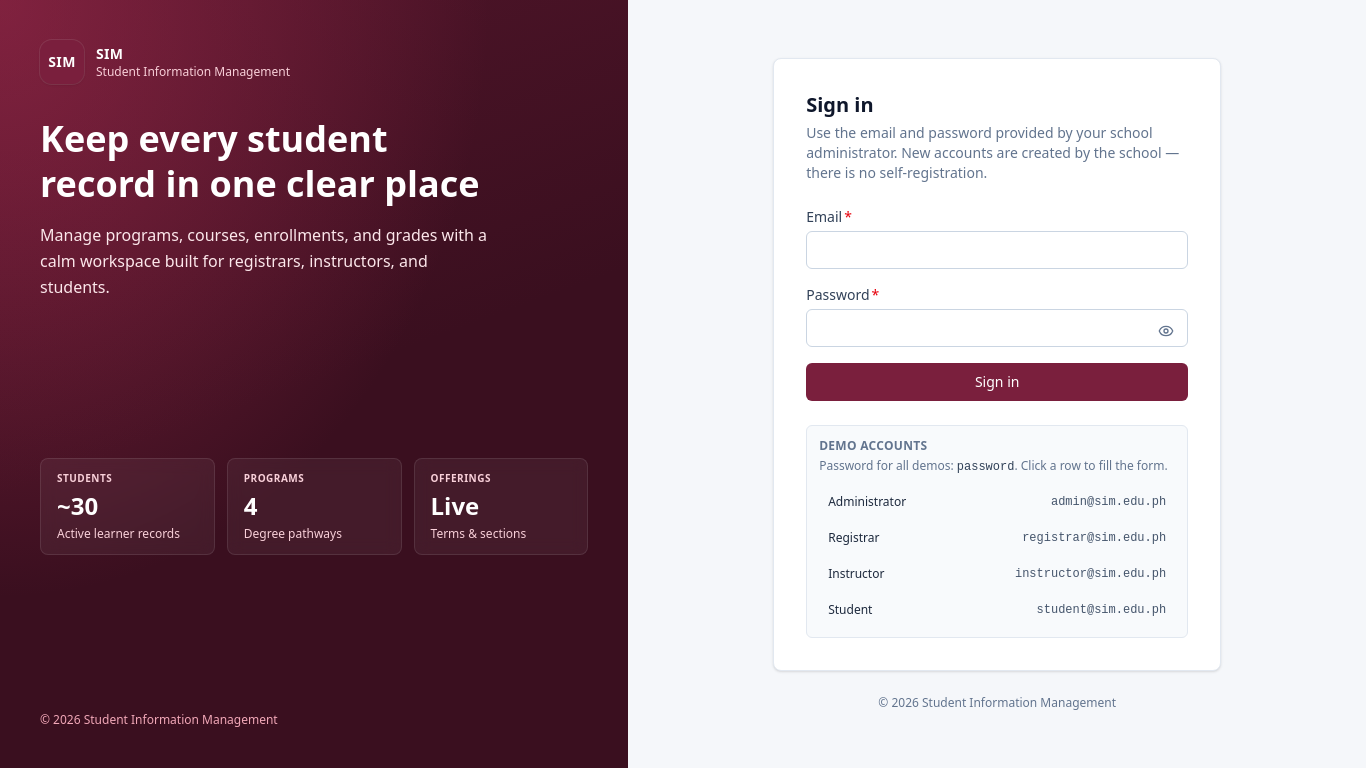
it: LoginPage › shows validation errors for empty fields
What coordinates should you click on to do the following:
click the button "Sign in"
I would click on:
 (997, 382)
Its box is [806,362,1188,400].
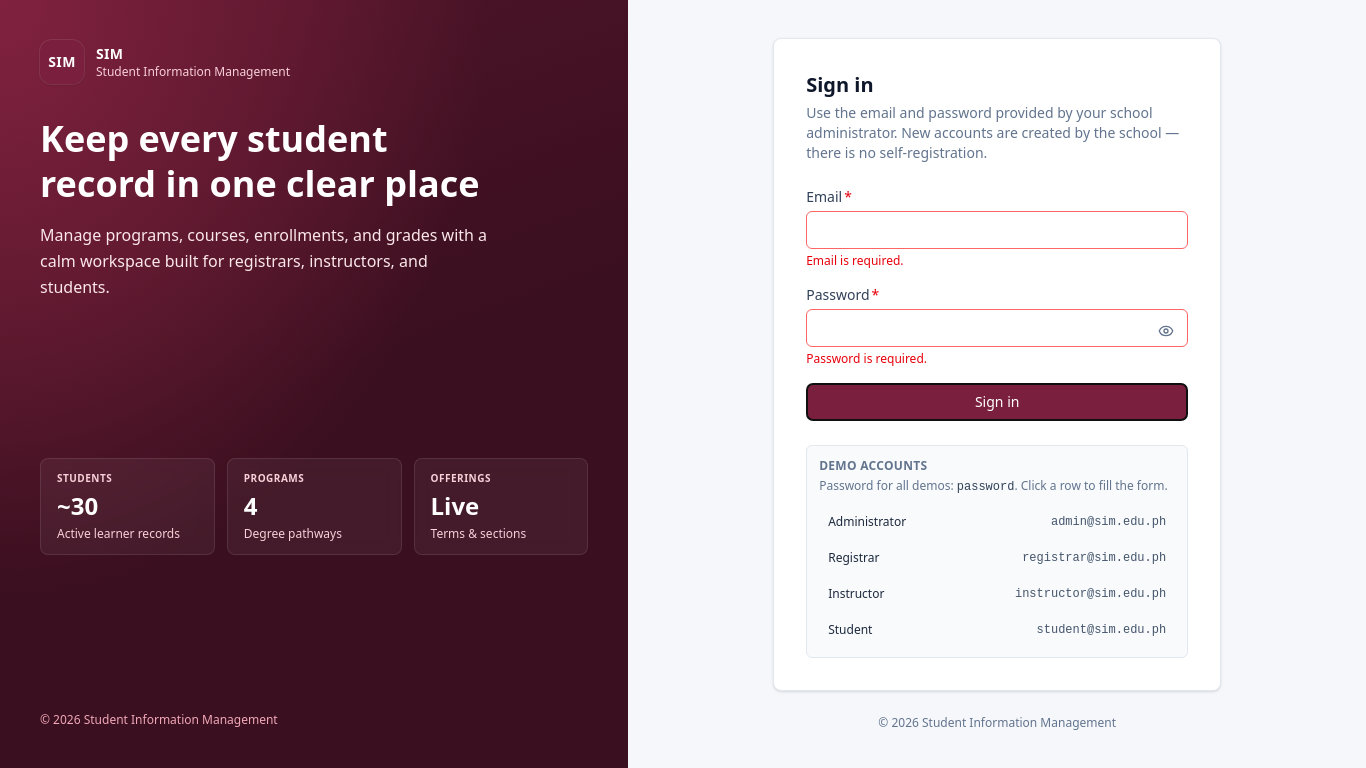
Result: the text "Email is required." is shown at [806,252,904,268]
Result: the text "Password is required." is shown at [806,350,927,366]
